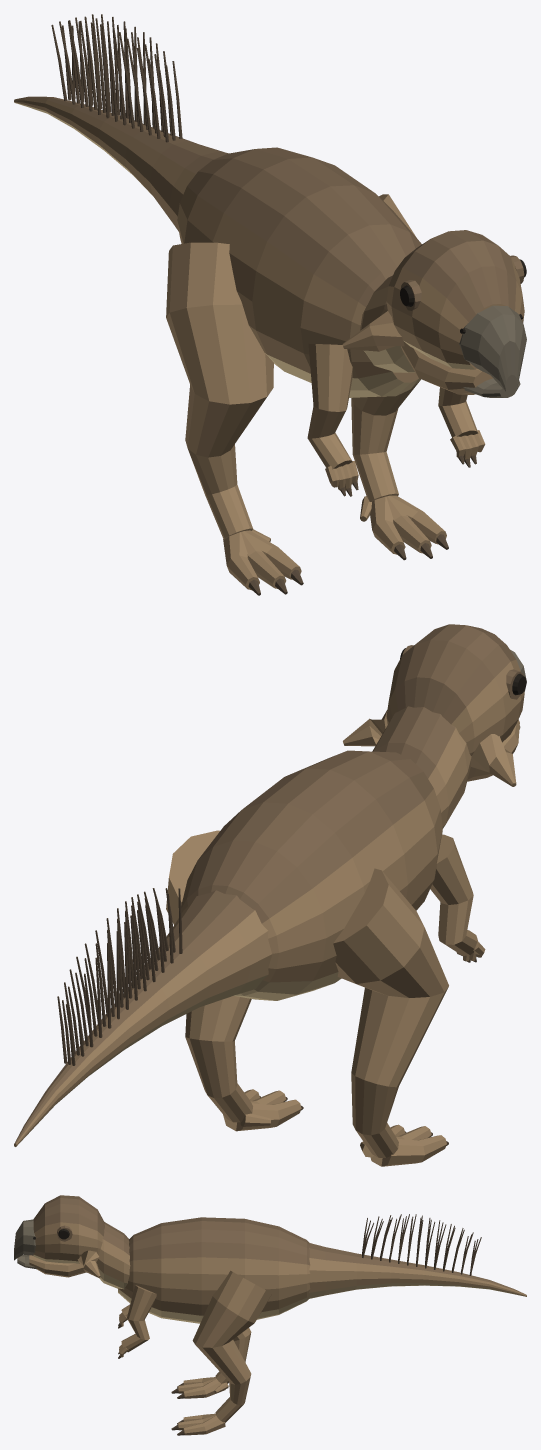
3 views of the same model, one above another, from view 1: azimuth 30°, elevation 25°; view 2: azimuth 150°, elevation 25°; view 3: azimuth 270°, elevation 25° (orthographic). The views are drawn at different scales.
Parts seen in each view (by area): view 1: torso, left-hindleg, skull, localized-tail-bristles, tail, left-forelimb, right-hindleg, upper-beak, right-hindfoot, left-hindfoot, mandible, neck (+4 smaller); view 2: torso, left-hindleg, tail, skull, localized-tail-bristles, right-hindleg, neck, left-forelimb, left-hindfoot, right-hindfoot, left-jugal-projection, right-jugal-projection; view 3: torso, right-hindleg, tail, skull, localized-tail-bristles, neck, right-forelimb, left-hindfoot, right-hindfoot, mandible, upper-beak, left-hindleg (+1 smaller).
Boxes of the visible parts, x1=… form: torso: x1=177, y1=147, x2=421, y2=397; left-hindleg: x1=166, y1=242, x2=273, y2=539; skull: x1=386, y1=230, x2=524, y2=369; localized-tail-bristles: x1=51, y1=14, x2=182, y2=142; tail: x1=14, y1=96, x2=228, y2=231; left-forelimb: x1=307, y1=343, x2=352, y2=469; right-hindleg: x1=351, y1=194, x2=420, y2=501; upper-beak: x1=459, y1=305, x2=526, y2=396; right-hindfoot: x1=360, y1=495, x2=448, y2=560; left-hindfoot: x1=223, y1=529, x2=303, y2=595; mandible: x1=401, y1=341, x2=492, y2=394; neck: x1=360, y1=275, x2=415, y2=372; torso: x1=181, y1=750, x2=442, y2=1000; left-hindleg: x1=333, y1=868, x2=448, y2=1157; tail: x1=14, y1=890, x2=272, y2=1146; skull: x1=386, y1=624, x2=524, y2=755; localized-tail-bristles: x1=57, y1=888, x2=182, y2=1065; right-hindleg: x1=166, y1=830, x2=252, y2=1122; neck: x1=372, y1=706, x2=471, y2=828; left-forelimb: x1=430, y1=834, x2=478, y2=955; left-hindfoot: x1=360, y1=1124, x2=448, y2=1166; right-hindfoot: x1=223, y1=1089, x2=303, y2=1131; left-jugal-projection: x1=470, y1=734, x2=516, y2=786; right-jugal-projection: x1=343, y1=710, x2=387, y2=746; torso: x1=118, y1=1217, x2=310, y2=1323; right-hindleg: x1=192, y1=1270, x2=271, y2=1422; tail: x1=309, y1=1243, x2=526, y2=1298; skull: x1=33, y1=1195, x2=104, y2=1263; localized-tail-bristles: x1=362, y1=1214, x2=481, y2=1275; neck: x1=96, y1=1222, x2=130, y2=1289; right-forelimb: x1=121, y1=1285, x2=156, y2=1352; left-hindfoot: x1=171, y1=1377, x2=228, y2=1398; right-hindfoot: x1=171, y1=1413, x2=225, y2=1435; mandible: x1=29, y1=1255, x2=86, y2=1277; upper-beak: x1=14, y1=1219, x2=35, y2=1260; left-hindleg: x1=215, y1=1328, x2=251, y2=1383.
Bounding box in the file's own units: 0.4368 × 0.6904 × 1.5.
